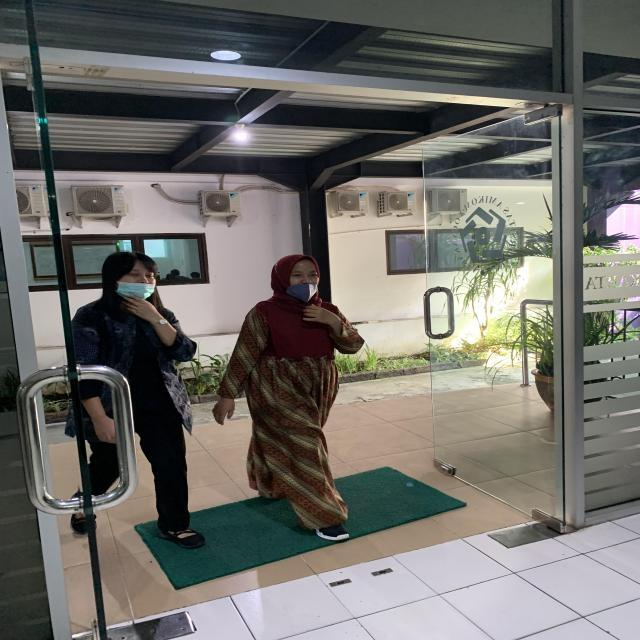hairnet: (108, 251, 168, 308), (274, 256, 332, 298)
